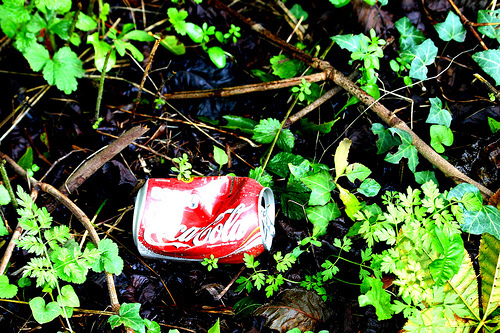litter: (131, 174, 277, 262)
